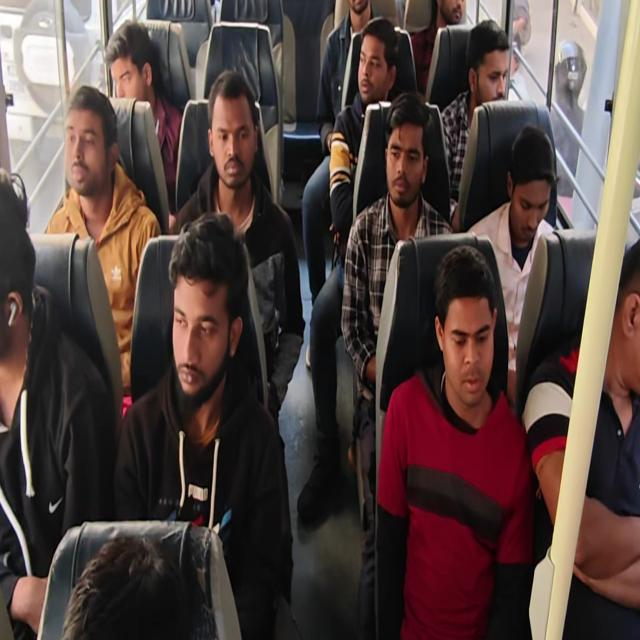person: (176, 208, 270, 424), (67, 532, 202, 640), (422, 238, 493, 410), (497, 111, 560, 245), (0, 174, 44, 356), (62, 88, 114, 212), (382, 99, 434, 218), (209, 64, 259, 187), (611, 218, 640, 395), (354, 15, 400, 111), (107, 26, 157, 108), (461, 30, 515, 99), (432, 0, 474, 32), (342, 1, 378, 19)
